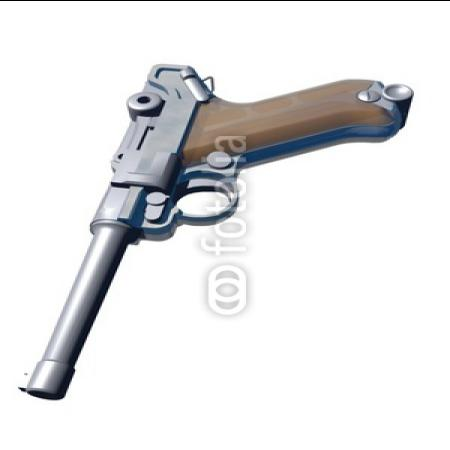Pistol: (13, 64, 413, 402)
